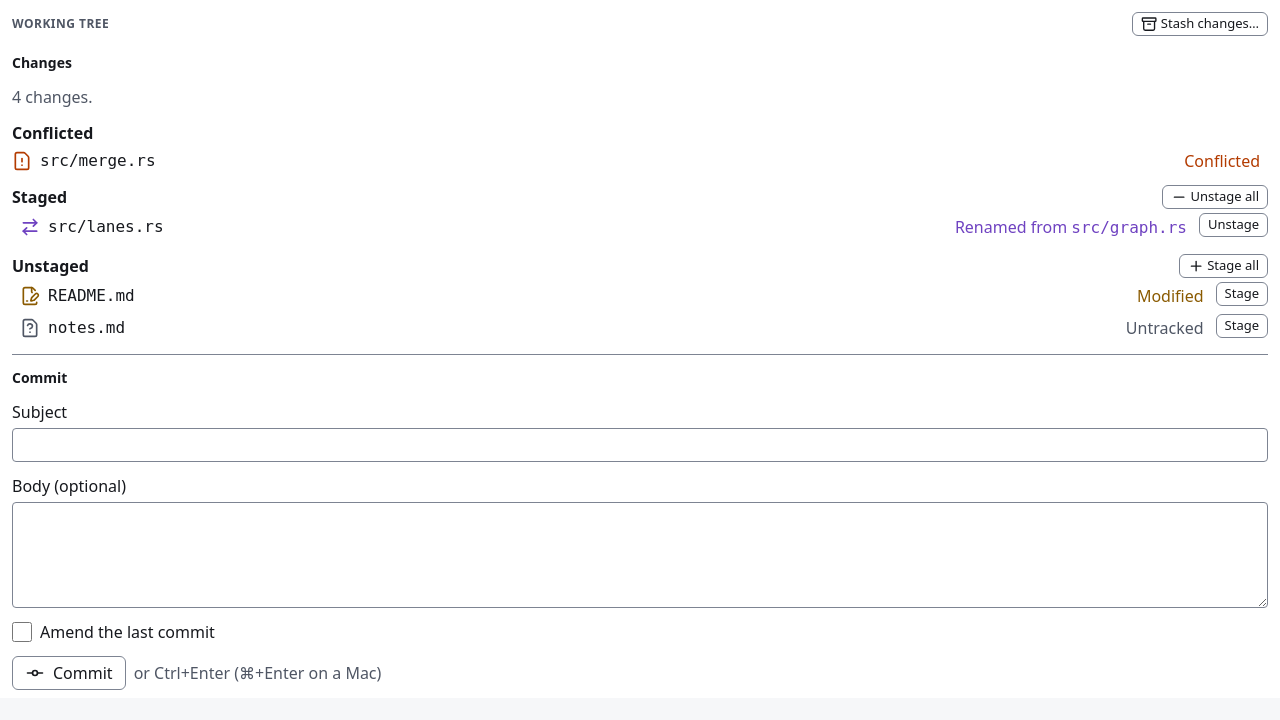
Test case: Stage all and Unstage all move a whole section
Expected: the text "4 changes." is shown, [12,86,93,108]
Click the button "Stage all": (1223, 266) [1179,254,1268,278]
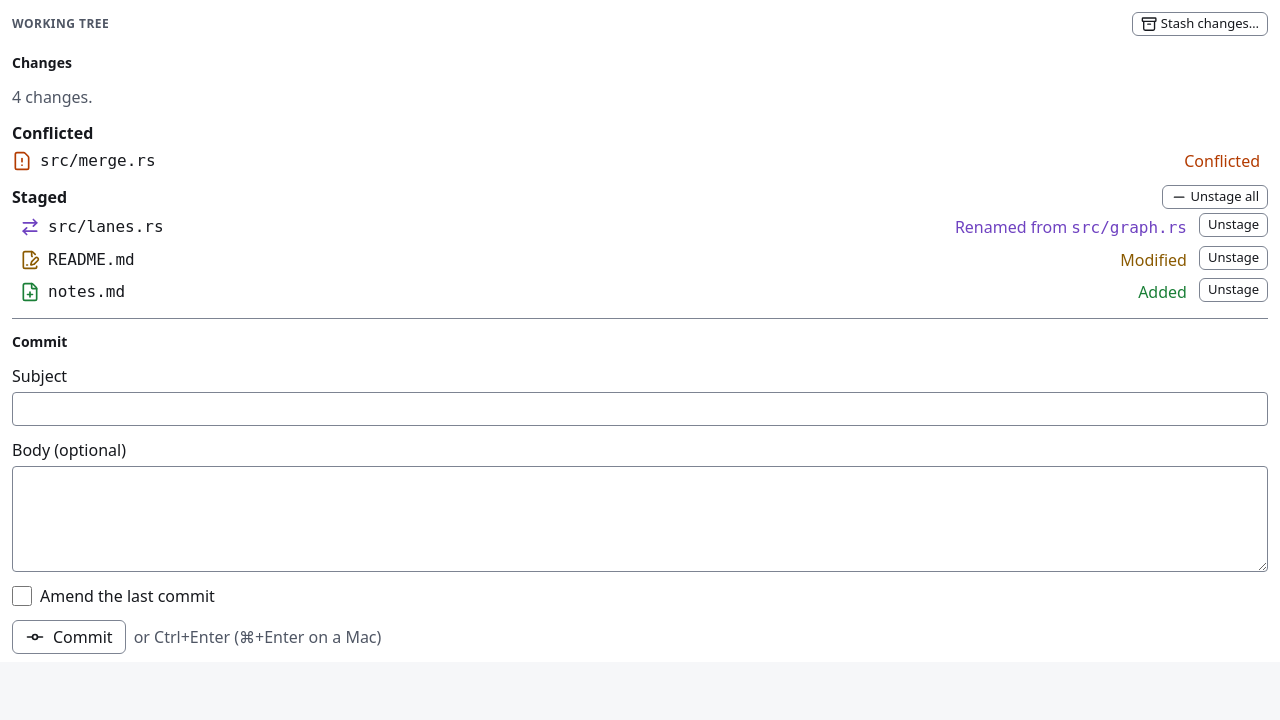
Expected: the button "notes.md Added" is shown, [12,278,1191,306]
Expected: the heading "Unstaged" is gone
Click the button "Unstage all": (1215, 197) [1162,185,1268,209]
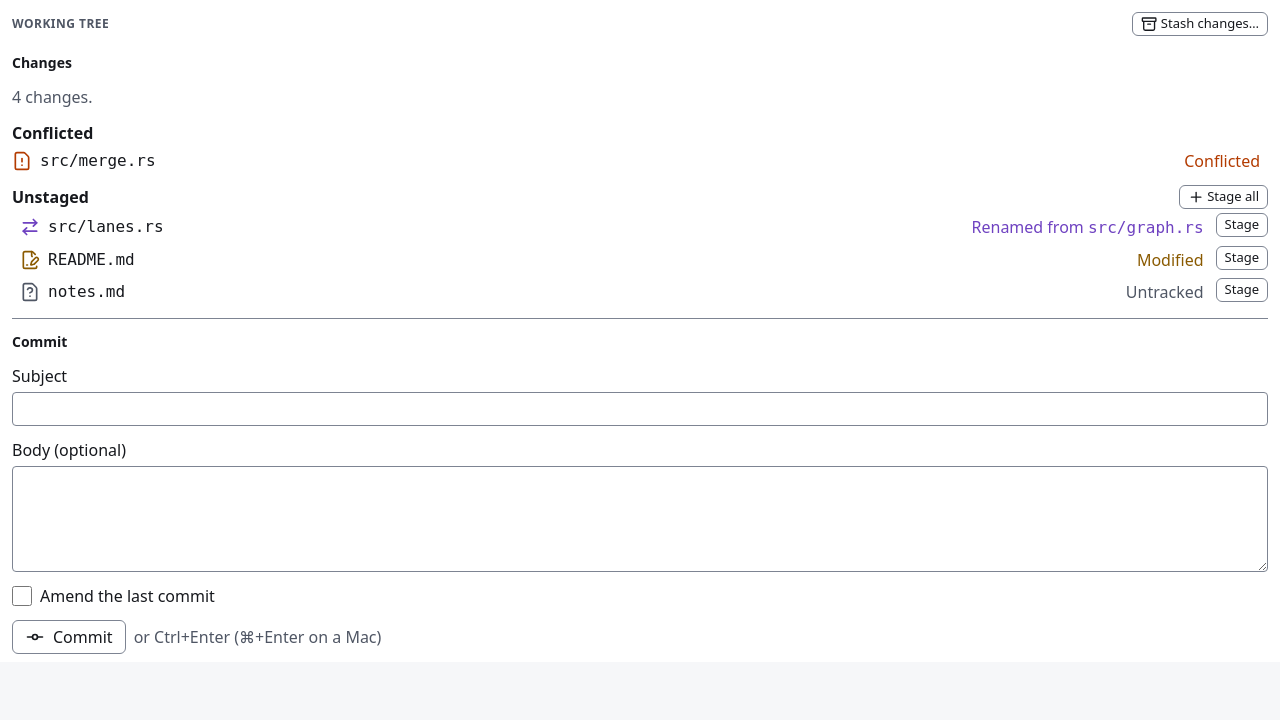
Expected: the button "notes.md Untracked" is shown, [12,278,1208,306]
